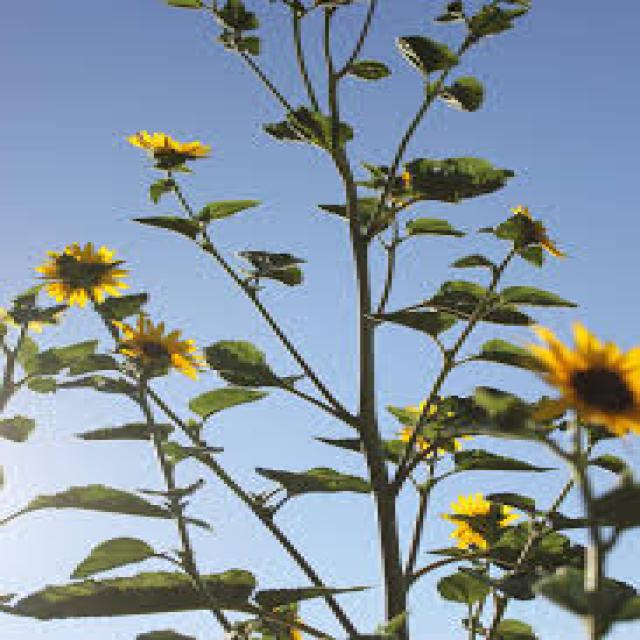sunflower: (508, 310, 640, 449), (98, 308, 220, 386), (36, 239, 146, 313), (384, 396, 478, 462), (438, 489, 527, 556), (126, 124, 228, 175), (0, 293, 71, 341)
